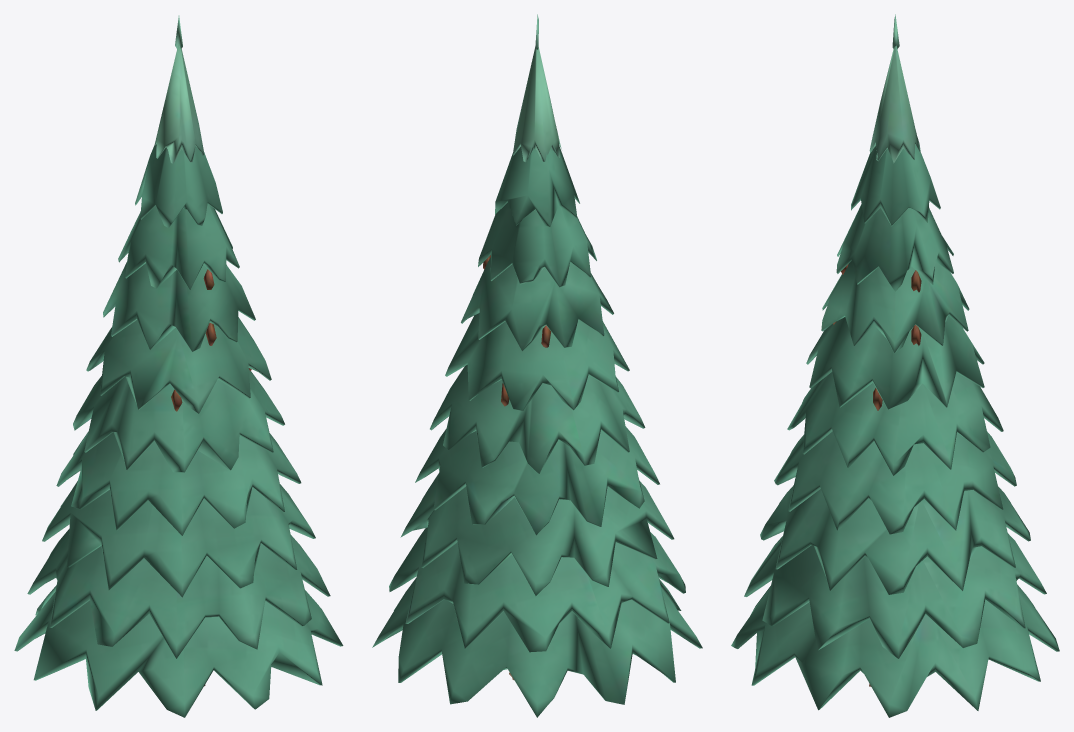
The model's file is spruce-tree.glb.
3 views of the same model, side by side, from view 1: azimuth 30°, elevation 25°; view 2: azimuth 150°, elevation 25°; view 3: azimuth 270°, elevation 25° (orthographic).
Parts seen in each view (by area): view 1: spruce-tree_body; view 2: spruce-tree_body; view 3: spruce-tree_body.
Boxes of the visible parts, bbox=[...] form: spruce-tree_body: bbox=[14, 15, 343, 717]; spruce-tree_body: bbox=[372, 14, 702, 717]; spruce-tree_body: bbox=[731, 14, 1059, 717].
Size of the model in its own units: 3.49 by 7.79 by 3.49.
Materials: 1 (1 with a texture image).
